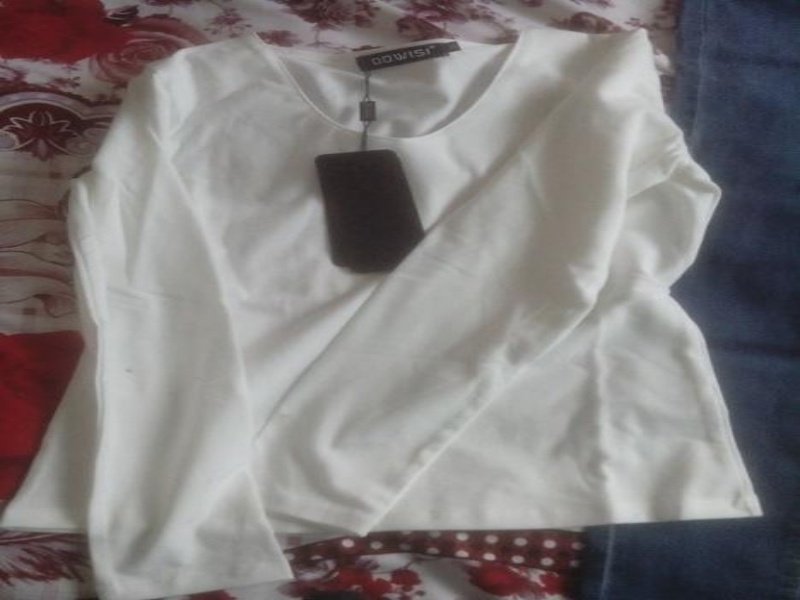long_sleeved_shirt: (0, 27, 764, 599)
